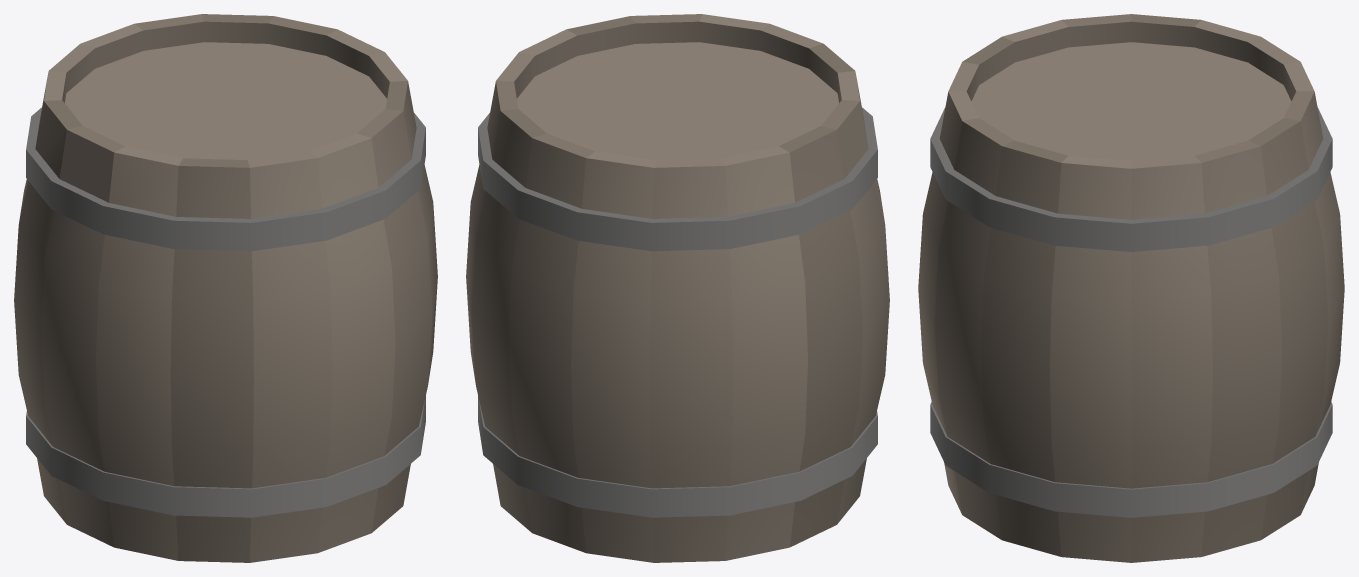
Rendered from Barrel.fbx.
The picture shows the model from 3 angles, left to right: view 1: azimuth 30°, elevation 25°; view 2: azimuth 150°, elevation 25°; view 3: azimuth 270°, elevation 25°; orthographic projection.
Visible parts, largest first — view 1: pCylinder2; view 2: pCylinder2; view 3: pCylinder2.
Boxes of the visible parts, left/top/right/bottom form: pCylinder2: left=14, top=14, right=437, bottom=562; pCylinder2: left=466, top=14, right=889, bottom=562; pCylinder2: left=918, top=14, right=1344, bottom=562.
Bounding box in the file's own units: 7.22 × 7.36 × 7.22.
